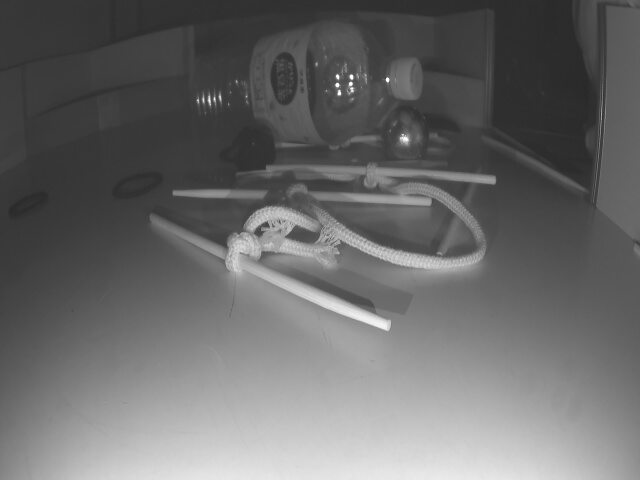Dead: (236, 124, 272, 171)
Live: (382, 105, 428, 161)
Point: (27, 77, 187, 159), (398, 71, 484, 129)
